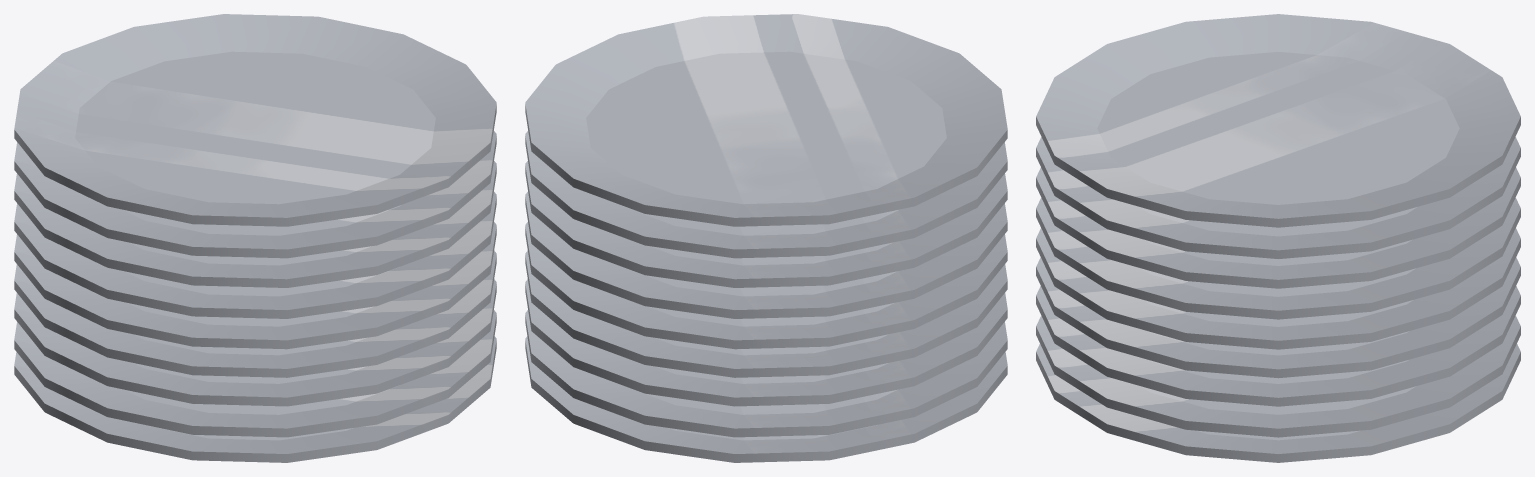
The model's file is bord stack.fbx.
3 renders of one model, left to right at view 1: azimuth 30°, elevation 25°; view 2: azimuth 150°, elevation 25°; view 3: azimuth 270°, elevation 25°, orthographic.
Visible parts, largest first — view 1: bord stack; view 2: bord stack; view 3: bord stack.
Boxes of the visible parts, x1,y1,x2,y2 form: bord stack: (14,14,496,462); bord stack: (525,14,1007,462); bord stack: (1036,14,1520,462).
Size of the model in its own units: 200 by 121 by 200.
